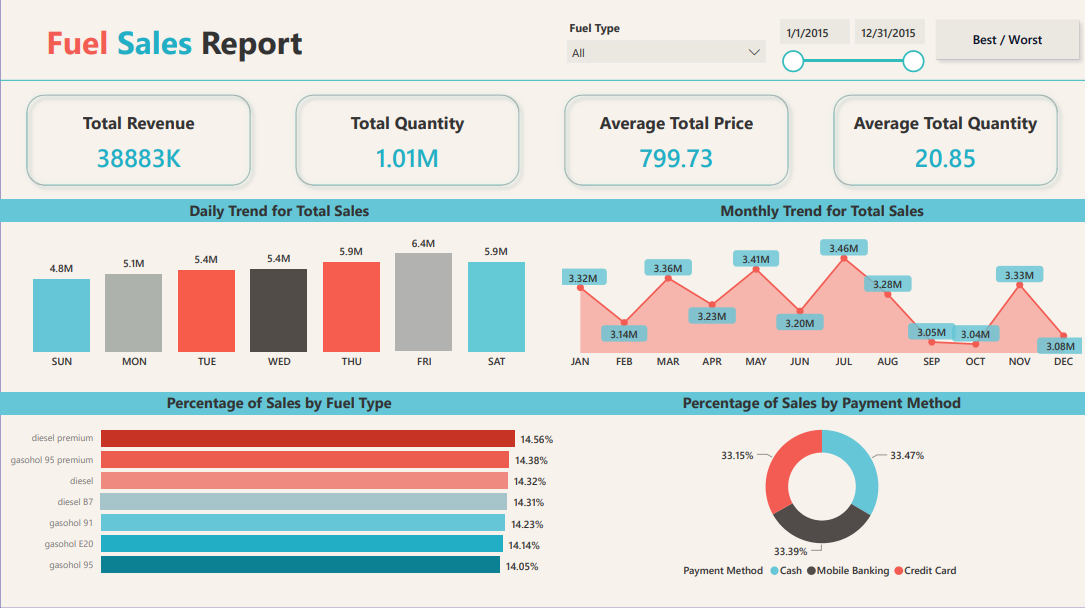

This screenshot's page, from the dashboard's own definition file:
{"tool":"powerbi","page":{"name":"Home","canvas":[1280,720],"ordinal":0},"visuals":[{"type":"shape","box":[0,0,1280,720],"z":0},{"type":"textbox","box":[50,21.2,347.5,66.2],"z":1},{"type":"shape","box":[0,91.2,1280,12.5],"z":2},{"type":"cardVisual","fields":{"Data":["Sum(fuel_sales.total_price)","Sum(fuel_sales.quantity)","fuel_sales.avg_price","fuel_sales.avg_quantity"]},"box":[0,97.5,1280,140],"z":3},{"type":"columnChart","title":"Daily Trend for Total Sales","fields":{"Y":["Sum(fuel_sales.total_price)"],"Category":["fuel_sales.Order_day-short"]},"box":[0,237.5,658.8,208.8],"z":4},{"type":"areaChart","title":"Monthly Trend for Total Sales","fields":{"Y":["Sum(fuel_sales.total_price)"],"Category":["fuel_sales.Order_month-short"]},"box":[658.8,237.5,621.2,208.8],"z":5},{"type":"barChart","title":"Percentage of Sales by Fuel Type","fields":{"Category":["fuel_sales.type"],"Y":["Divide(Sum(fuel_sales.total_price), ScopedEval(Sum(fuel_sales.total_price), []))"]},"box":[0,465,658.8,228.8],"z":6},{"type":"donutChart","title":"Percentage of Sales by Payment Method","fields":{"Y":["Sum(fuel_sales.total_price)"],"Category":["fuel_sales.payment_method"]},"box":[658.8,465,621.2,228.8],"z":7},{"type":"slicer","fields":{"Values":["fuel_sales.type"]},"box":[657.5,21.2,253.8,62.5],"z":8},{"type":"slicer","fields":{"Values":["fuel_sales.order_date"]},"box":[906.2,16.2,191.2,73.8],"z":9},{"type":"group","id":"g1","title":"Group 1","box":[1095,17.5,185,63.8],"z":10},{"type":"pageNavigator","box":[1095,17.5,185,63.8],"z":8001,"group":"g1"}]}

Visuals, with their boxes in screenshot pixels (x1, y1, x2, y2), scaled from the page's 1280x720 canvas onto the 1085x608 screenshot:
shape: locate(0, 0, 1084, 607)
textbox: locate(42, 18, 337, 74)
shape: locate(0, 77, 1084, 88)
cardVisual - Sum(fuel_sales.total_price) x Sum(fuel_sales.quantity): locate(0, 82, 1084, 201)
"Daily Trend for Total Sales" columnChart: locate(0, 201, 558, 377)
"Monthly Trend for Total Sales" areaChart: locate(558, 201, 1084, 377)
"Percentage of Sales by Fuel Type" barChart: locate(0, 393, 558, 586)
"Percentage of Sales by Payment Method" donutChart: locate(558, 393, 1084, 586)
slicer - fuel_sales.type: locate(557, 18, 772, 71)
slicer - fuel_sales.order_date: locate(768, 14, 930, 76)
"Group 1" group: locate(928, 15, 1084, 69)
pageNavigator: locate(928, 15, 1084, 69)
